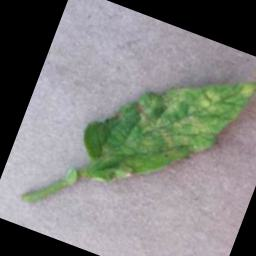Leaf_Mold: (136, 45, 256, 172)
